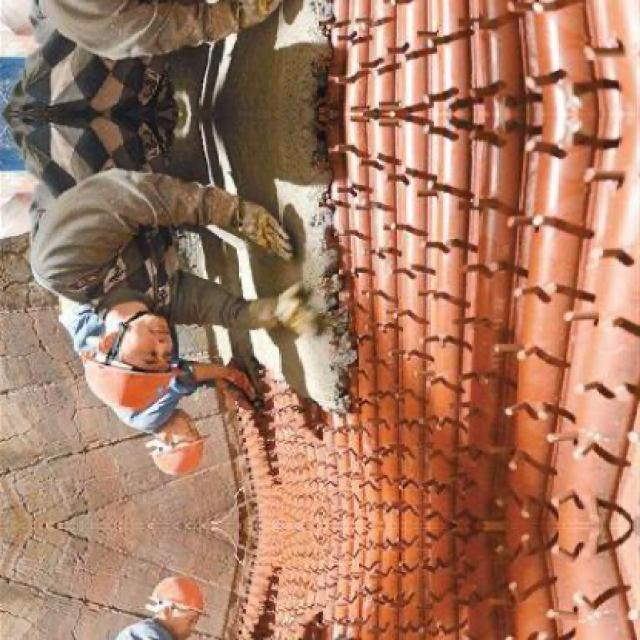con casco: (34, 230, 208, 398), (98, 391, 232, 498)
